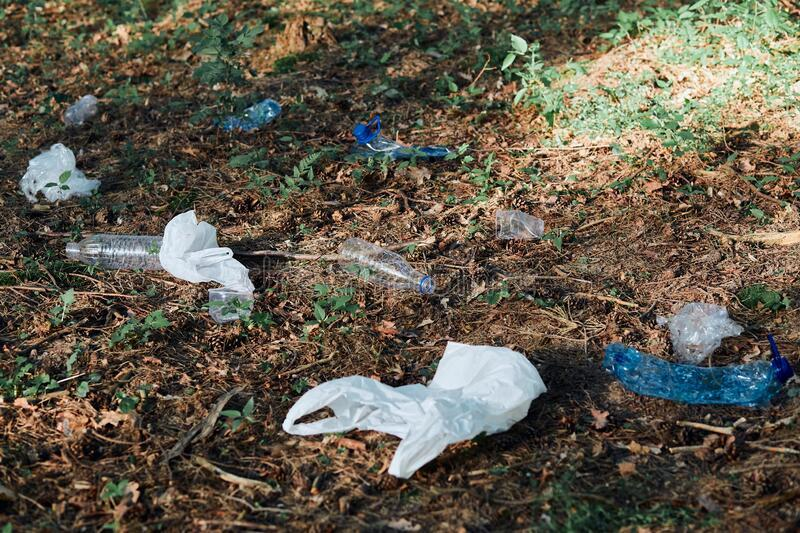Plastic: (595, 336, 797, 423), (325, 220, 457, 311), (50, 214, 200, 294), (197, 92, 292, 144)
